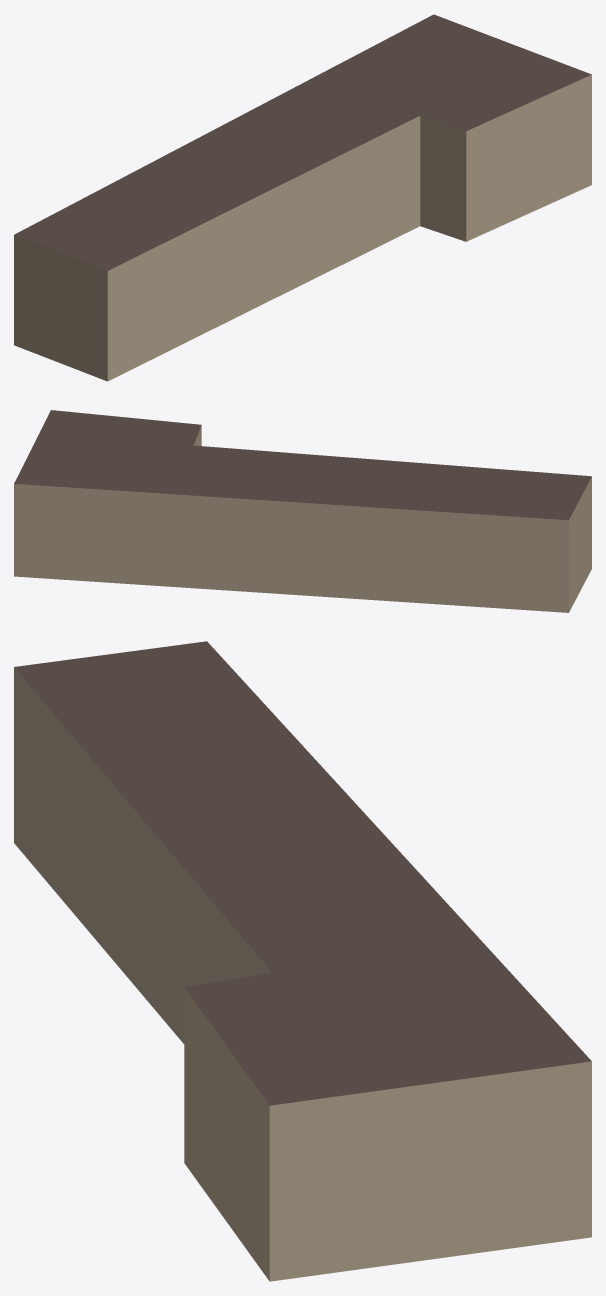
The picture shows the model from 3 angles, top to bottom: view 1: azimuth 30°, elevation 25°; view 2: azimuth 150°, elevation 25°; view 3: azimuth 270°, elevation 25°; orthographic projection. The views are drawn at different scales.
Parts seen in each view (by area): view 1: HP-w1197008144; view 2: HP-w1197008144; view 3: HP-w1197008144.
Boxes of the visible parts, x1,y1,x2,y2 form: HP-w1197008144: (14, 14, 591, 381); HP-w1197008144: (14, 410, 591, 612); HP-w1197008144: (14, 641, 591, 1281).
Bounding box in the file's own units: 50.93 × 9 × 26.79.
